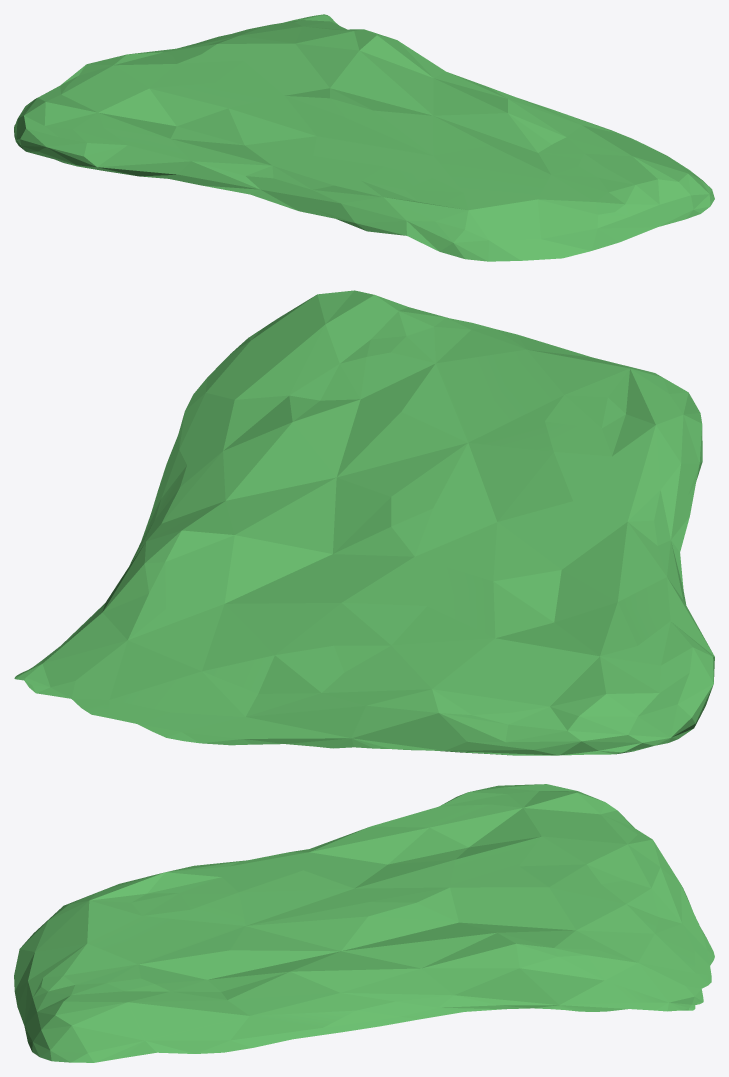
Rendered from ground.076.fbx.
3 renders of one model, top to bottom at view 1: azimuth 30°, elevation 25°; view 2: azimuth 150°, elevation 25°; view 3: azimuth 270°, elevation 25°, orthographic. The views are drawn at different scales.
Visible parts, largest first — view 1: ground_076; view 2: ground_076; view 3: ground_076.
Part boxes in pixels (bbox=[...]): ground_076: bbox=[14, 14, 714, 261]; ground_076: bbox=[14, 290, 714, 755]; ground_076: bbox=[14, 784, 714, 1062].
Bounding box in the file's own units: 23552 × 2360 × 26655.
